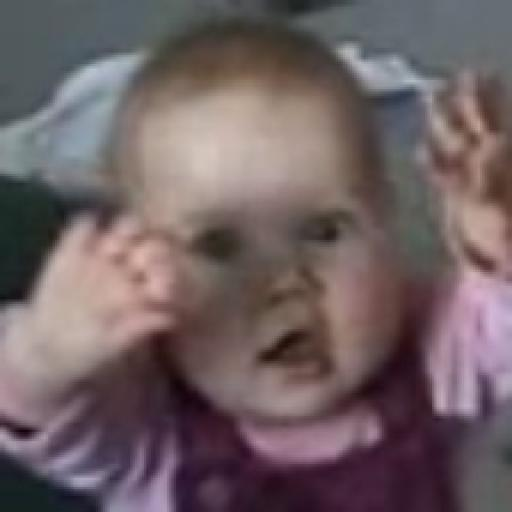Autism: (118, 60, 512, 462)
